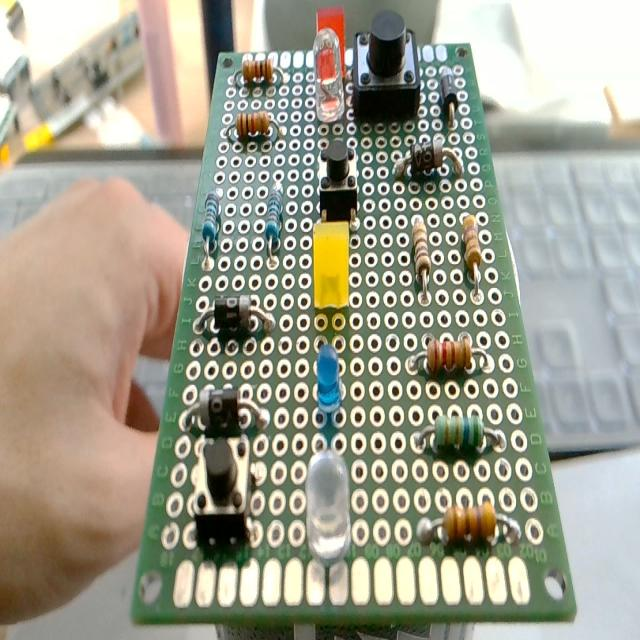diode: (185, 384, 268, 434), (194, 292, 276, 337), (394, 140, 462, 181), (438, 66, 459, 130)
led: (305, 450, 351, 566), (312, 27, 346, 124), (312, 224, 349, 311), (312, 2, 348, 84), (316, 342, 342, 416)
resistor: (203, 182, 288, 272), (406, 211, 476, 300), (418, 501, 518, 549), (414, 411, 506, 455), (410, 334, 489, 376), (200, 187, 222, 270), (263, 181, 283, 267), (412, 218, 431, 294), (462, 213, 481, 277), (237, 111, 270, 138), (243, 57, 274, 83)
switch: (351, 12, 418, 122), (191, 428, 254, 542), (319, 142, 356, 222)
